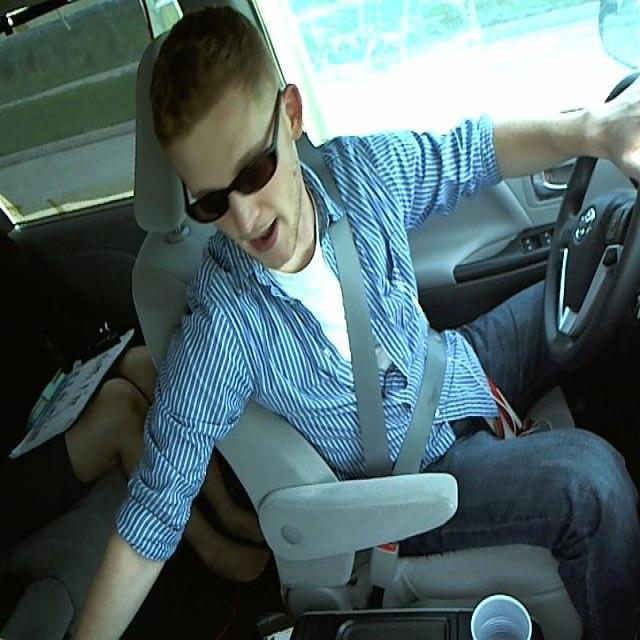seatbelt: (308, 224, 416, 480)
